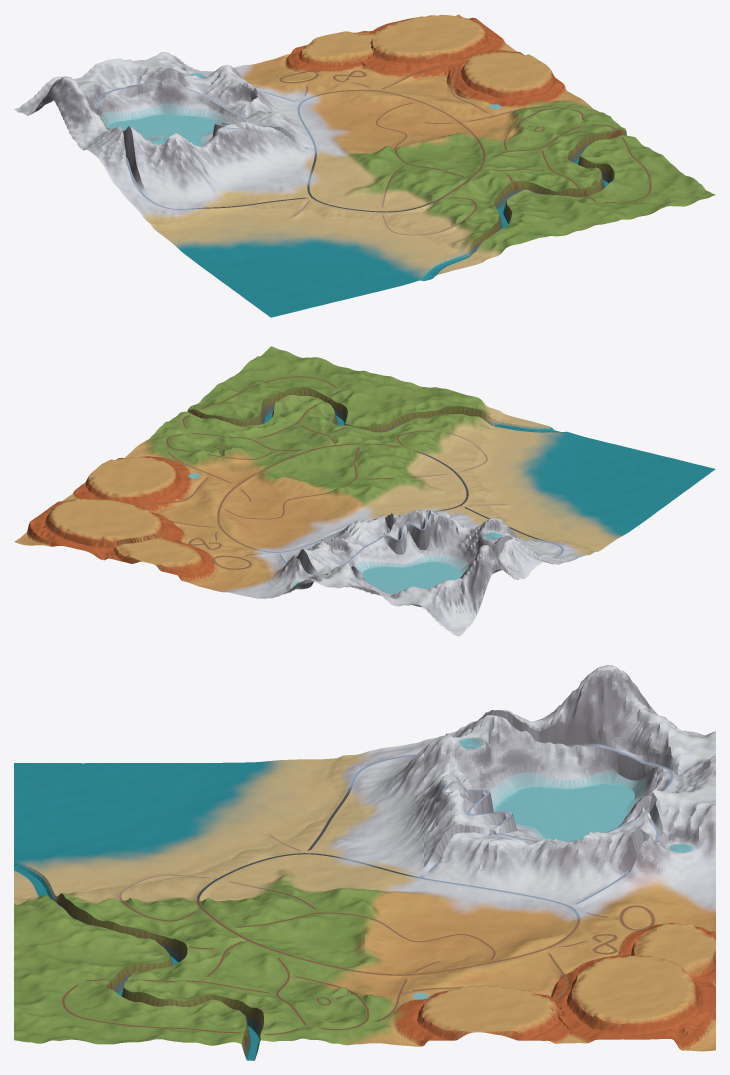
The model's file is terrain_lod0.glb.
3 renders of one model, top to bottom at view 1: azimuth 30°, elevation 25°; view 2: azimuth 150°, elevation 25°; view 3: azimuth 270°, elevation 25°, orthographic. The views are drawn at different scales.
Parts seen in each view (by area): view 1: chunk_3_10, chunk_1_6, chunk_0_7, chunk_0_9, chunk_2_11, chunk_2_6, chunk_9_9, chunk_4_9, chunk_3_6, chunk_2_10, chunk_1_7, chunk_0_6 (+121 smaller); view 2: chunk_0_11, chunk_3_8, chunk_0_10, chunk_2_7, chunk_9_11, chunk_7_11, chunk_0_8, chunk_10_11, chunk_4_8, chunk_2_8, chunk_10_8, chunk_11_11 (+114 smaller); view 3: chunk_1_8, chunk_1_10, chunk_5_10, chunk_5_9, chunk_1_9, chunk_4_11, chunk_5_8, chunk_0_10, chunk_0_9, chunk_4_7, chunk_11_11, chunk_5_7 (+129 smaller).
Part boxes in pixels (x1,y1,x2,y2): chunk_3_10: (145,68,204,122); chunk_1_6: (158,152,216,205); chunk_0_7: (99,134,157,191); chunk_0_9: (57,80,106,144); chunk_2_11: (87,58,146,100); chunk_2_6: (196,156,253,198); chunk_9_9: (390,48,447,86); chunk_4_9: (205,80,263,123); chunk_3_6: (232,151,289,188); chunk_2_10: (110,93,168,130); chunk_1_7: (137,133,194,175); chunk_0_6: (121,176,179,215); chunk_0_11: (422,581,480,636); chunk_3_8: (375,526,433,571); chunk_0_10: (445,545,501,604); chunk_2_7: (433,513,481,557); chunk_9_11: (88,528,146,561); chunk_7_11: (162,550,219,586); chunk_0_8: (493,535,543,578); chunk_10_11: (51,519,109,551); chunk_4_8: (343,520,396,558); chunk_2_8: (412,546,471,579); chunk_10_8: (116,474,173,507); chunk_11_11: (14,514,72,546); chunk_1_8: (480,716,541,797); chunk_1_10: (596,719,659,797); chunk_5_10: (597,830,656,897); chunk_5_9: (539,836,600,900); chunk_1_9: (539,732,601,796); chunk_4_11: (656,804,715,867); chunk_5_8: (480,844,541,900); chunk_0_10: (598,665,656,739); chunk_0_9: (539,668,600,746); chunk_4_7: (422,809,484,869); chunk_11_11: (657,1003,715,1051); chunk_5_7: (421,849,484,899).
Bounding box in the file's own units: 2400 × 405 × 2400.
